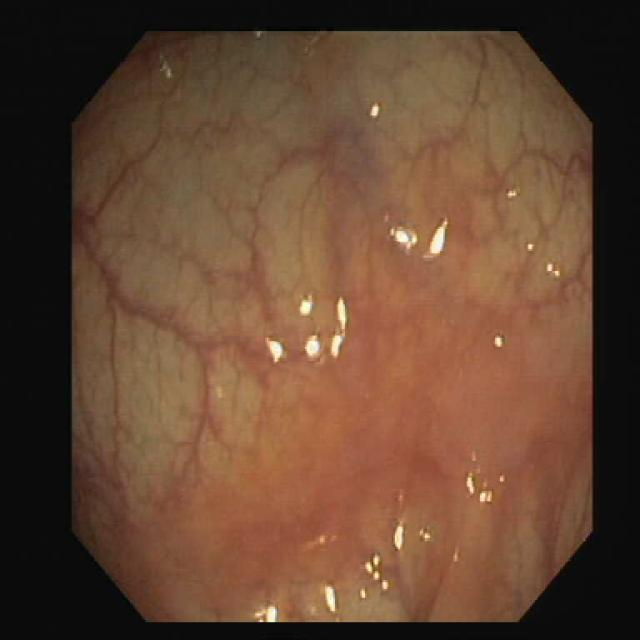tumor: (415, 293, 568, 480)
